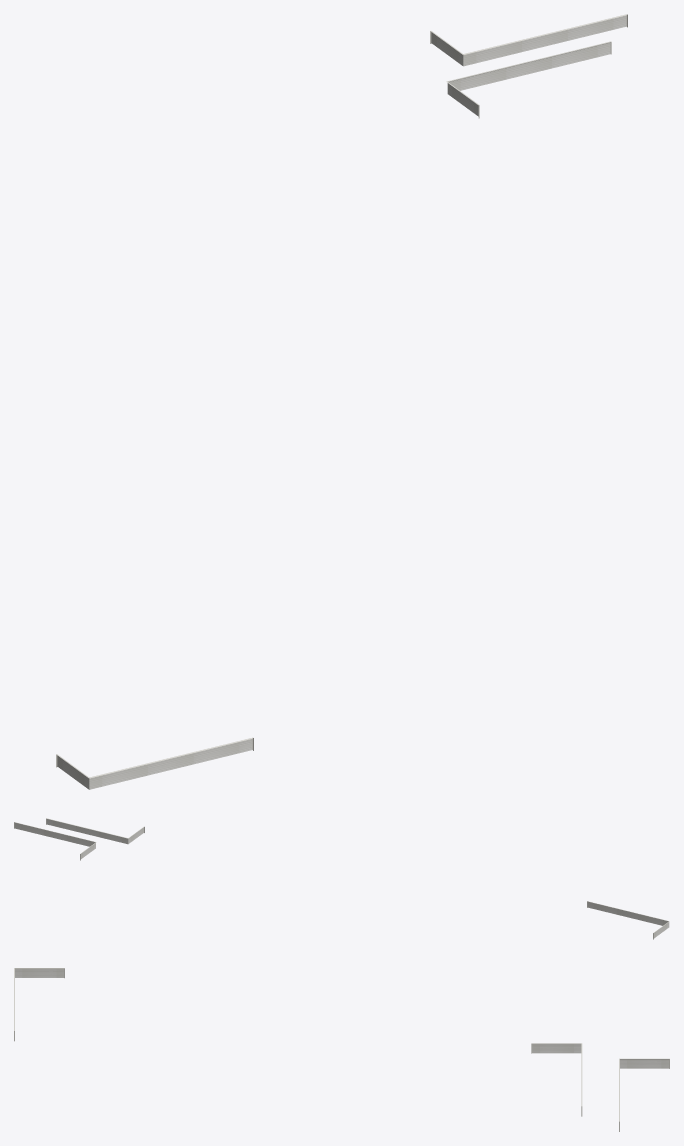
File: BP_Linear_white.glb
3 renders of one model, top to bottom at view 1: azimuth 30°, elevation 25°; view 2: azimuth 150°, elevation 25°; view 3: azimuth 270°, elevation 25°, orthographic. The views are drawn at different scales.
Parts seen in each view (by area): view 1: Center_Linear_white.001; view 2: Center_Linear_white.001; view 3: Center_Linear_white.001.
Part boxes in pixels (x1=…): Center_Linear_white.001: x1=56, y1=14, x2=627, y2=789; Center_Linear_white.001: x1=14, y1=818, x2=669, y2=939; Center_Linear_white.001: x1=14, y1=968, x2=669, y2=1131.
Bounding box in the file's own units: 16.19 × 4.49 × 12.69.
1 material, 1 textured.
